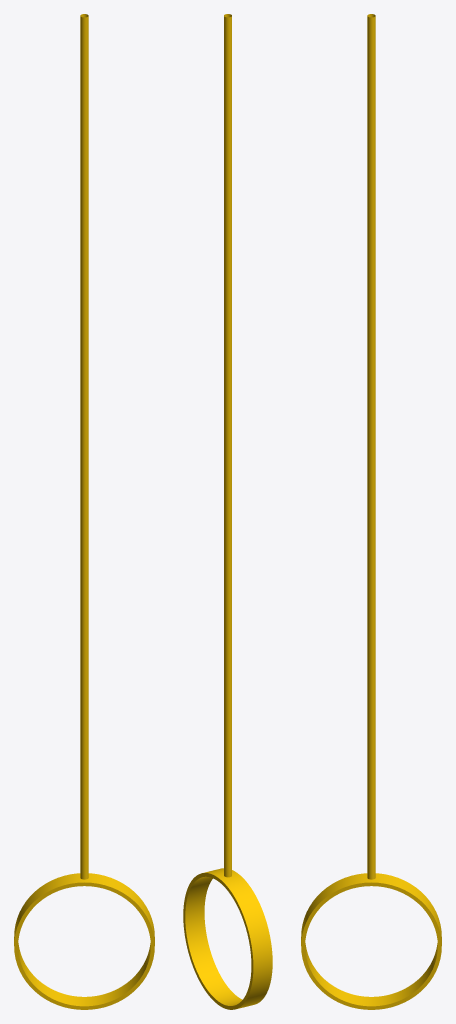
The model's file is cutter2_circle.fbx.
3 views of the same model, side by side, from view 1: azimuth 90°, elevation 25°; view 2: azimuth 210°, elevation 25°; view 3: azimuth 270°, elevation 25° (orthographic).
Visible parts, largest first — view 1: Cutter2_Circle; view 2: Cutter2_Circle; view 3: Cutter2_Circle.
Boxes of the visible parts, box(x1,y1,x2,y2) form: Cutter2_Circle: box(14, 14, 154, 1009); Cutter2_Circle: box(183, 14, 272, 1009); Cutter2_Circle: box(301, 14, 441, 1009).
Bounding box in the file's own units: 16.84 × 823 × 106.
